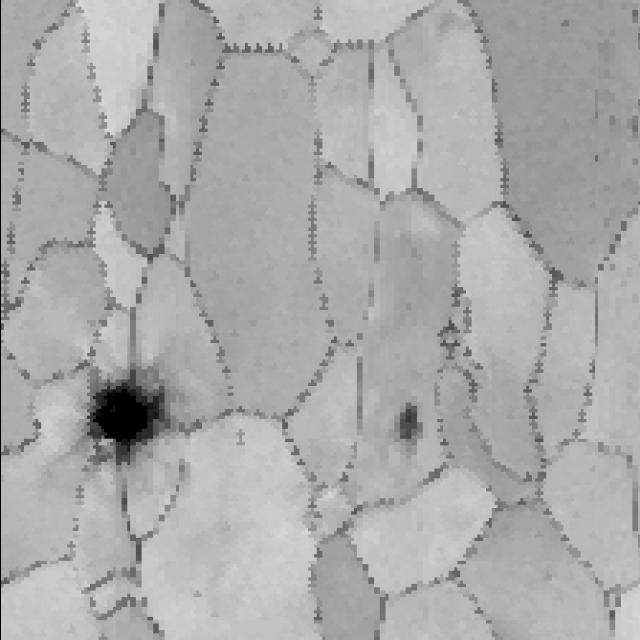good_void: (81, 355, 203, 474), (382, 395, 428, 477), (234, 425, 249, 451)
